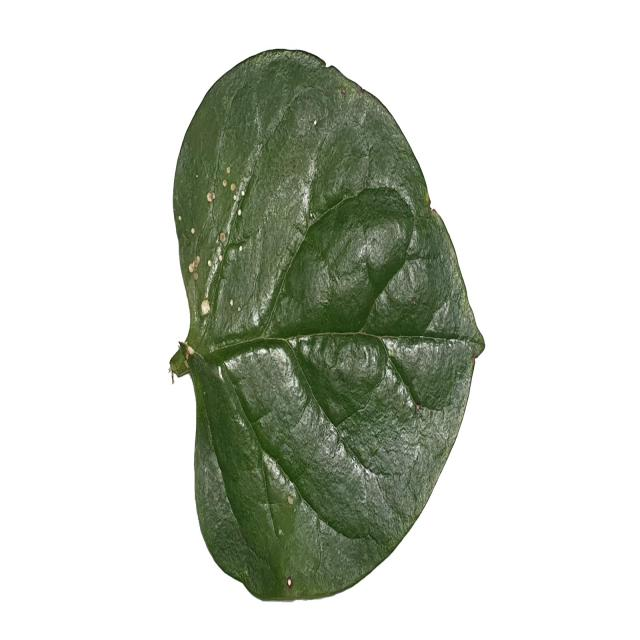Medicinal-Basale: (167, 46, 486, 598)
